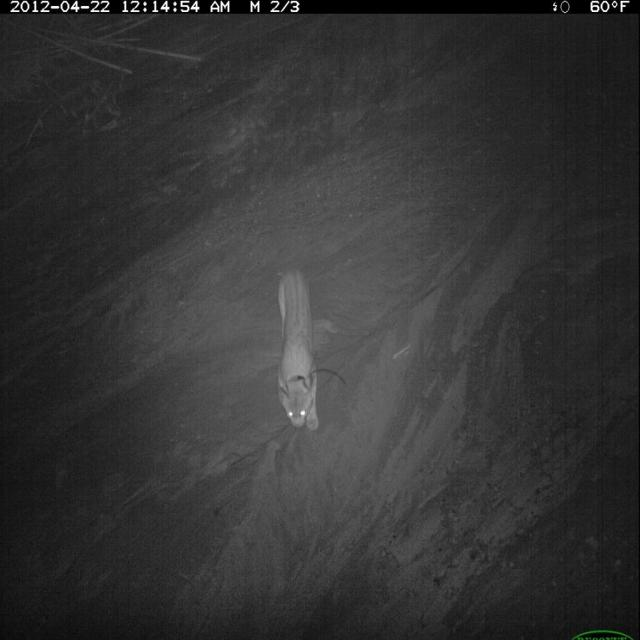bobcat: (275, 262, 323, 436)
